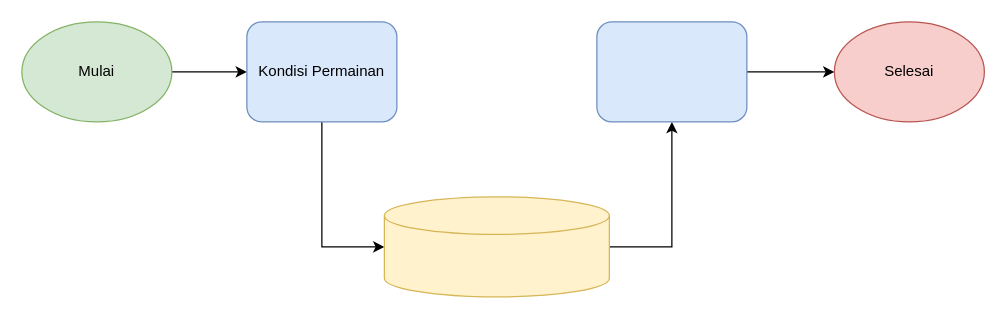
Some shapes in this 1006 by 319 pixel diagram are drawn without their labels. Each missing label, with the centre of its shape:
Fuzzy Inferensi Sistem: the point at 496,246
Output Kartu Tangan pemain: the point at 671,71
